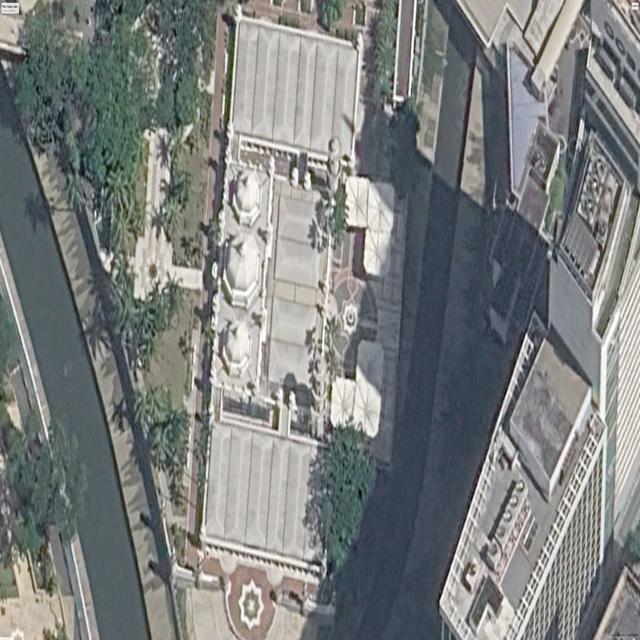mosque: (200, 10, 362, 584)
